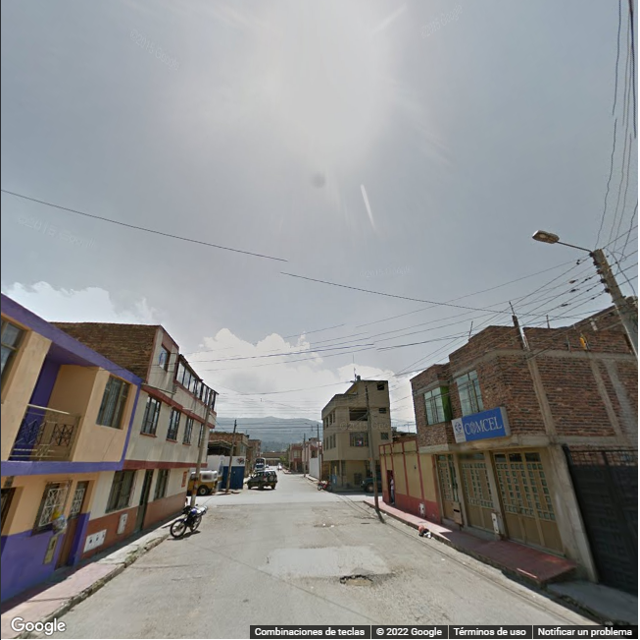D20: (381, 593, 457, 624)
D40: (338, 570, 382, 587)
